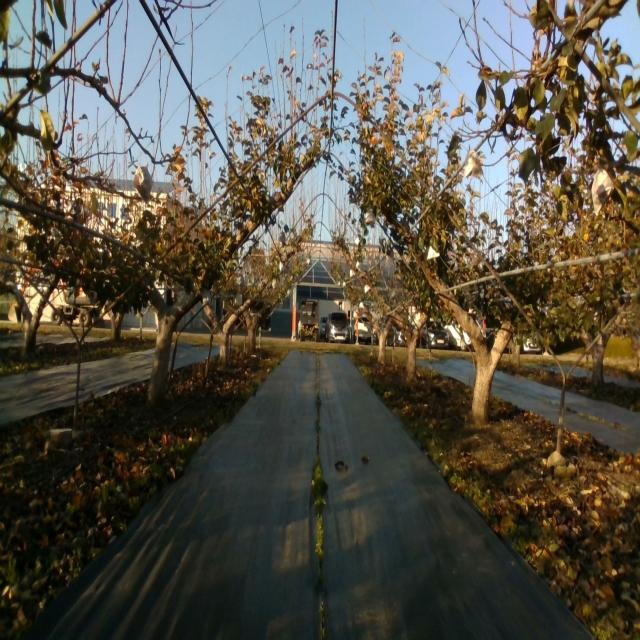pearbags: (592, 166, 614, 216), (134, 162, 152, 204), (463, 146, 484, 178)
